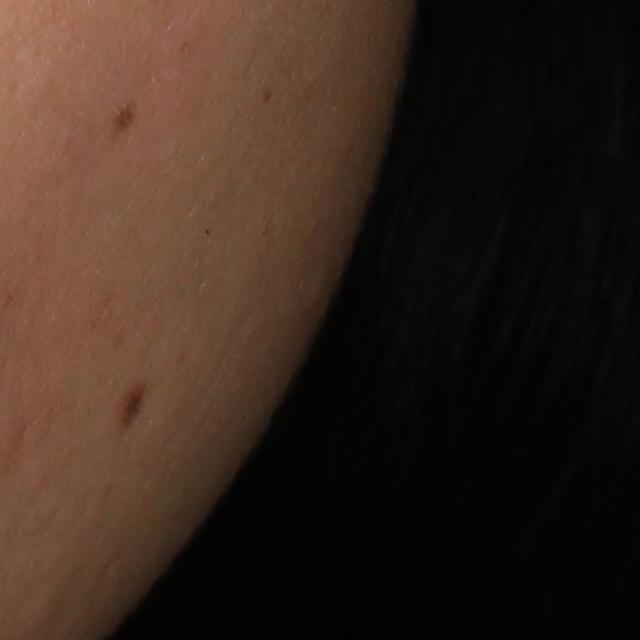nevus: (118, 380, 151, 431), (111, 102, 139, 137)
